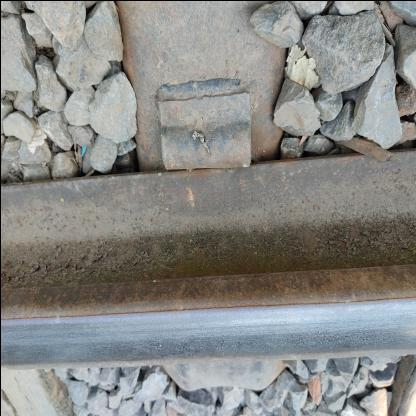Defective 1: (121, 59, 282, 197)
